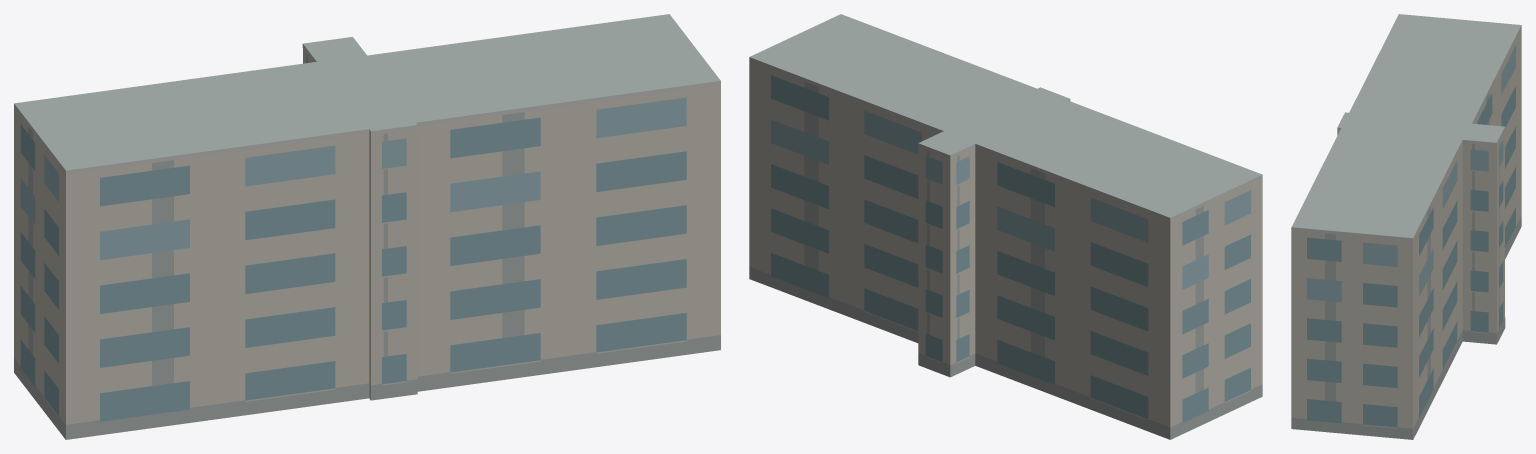
File: residential-5f35bf43-3643-4a01-bdba-62a4ddf24e95.glb
3 renders of one model, left to right at view 1: azimuth 30°, elevation 25°; view 2: azimuth 150°, elevation 25°; view 3: azimuth 270°, elevation 25°, orthographic. The views are drawn at different scales.
Parts seen in each view (by area): view 1: residential-5f35bf43-3643-4a01-bdba-62a4ddf24e95.tmp; view 2: residential-5f35bf43-3643-4a01-bdba-62a4ddf24e95.tmp; view 3: residential-5f35bf43-3643-4a01-bdba-62a4ddf24e95.tmp.
Boxes of the visible parts, bbox=[...] form: residential-5f35bf43-3643-4a01-bdba-62a4ddf24e95.tmp: bbox=[14, 14, 720, 439]; residential-5f35bf43-3643-4a01-bdba-62a4ddf24e95.tmp: bbox=[749, 14, 1262, 439]; residential-5f35bf43-3643-4a01-bdba-62a4ddf24e95.tmp: bbox=[1291, 14, 1521, 439].
Size of the model in its own units: 36.35 by 15.25 by 15.77.
